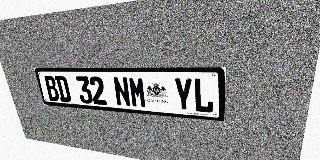2: (89, 76, 107, 105)
3: (75, 76, 93, 104)
B: (43, 76, 60, 101)
D: (54, 76, 72, 102)
L: (193, 78, 214, 113)
M: (128, 77, 147, 108)
N: (112, 77, 131, 107)
Y: (173, 78, 193, 112)
